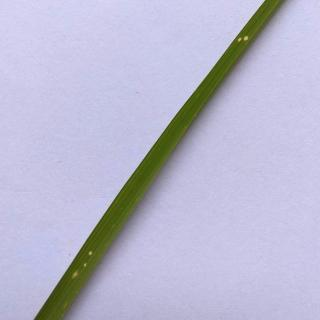Blast: (67, 245, 101, 284), (233, 28, 252, 49)
